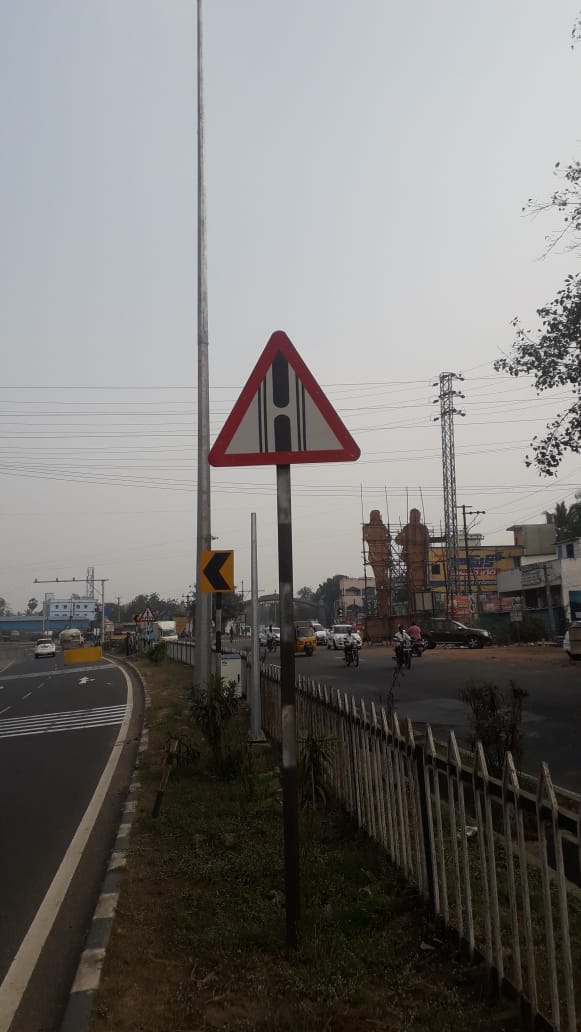highway go straight: (180, 314, 371, 502)
